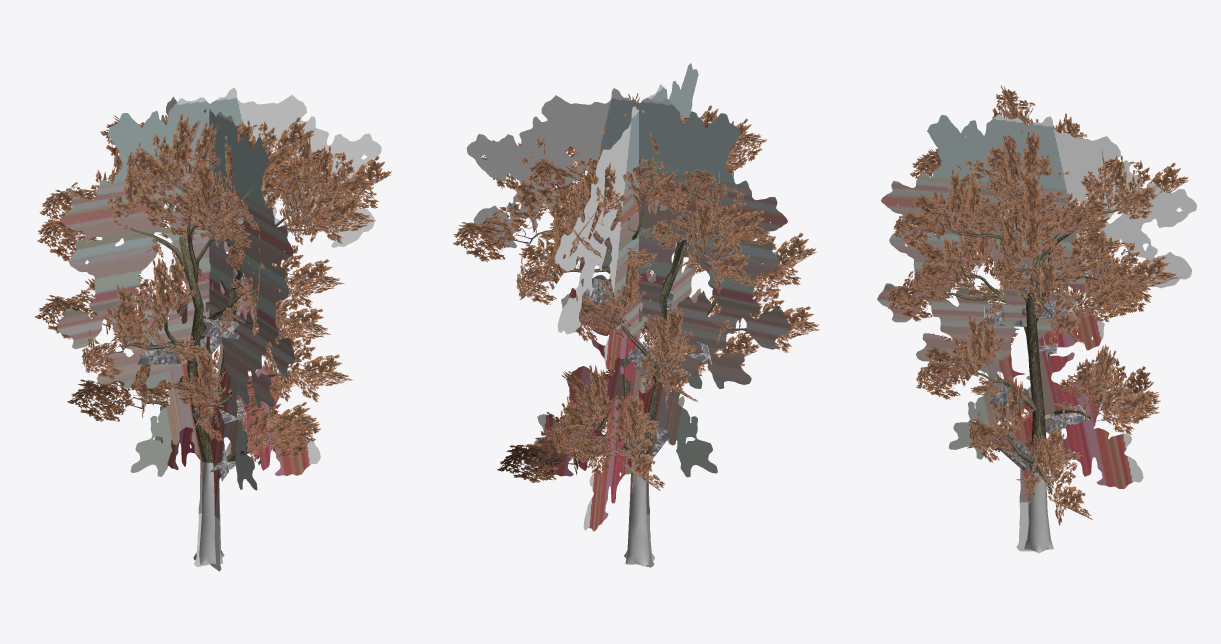
File: Tree-Oak1C.fbx
3 renders of one model, left to right at view 1: azimuth 30°, elevation 25°; view 2: azimuth 150°, elevation 25°; view 3: azimuth 270°, elevation 25°, orthographic. The views are drawn at different scales.
Visible parts, largest first — view 1: Tree-Oak1C_LOD0, Billboard-Oak1C; view 2: Billboard-Oak1C, Tree-Oak1C_LOD0; view 3: Tree-Oak1C_LOD0, Billboard-Oak1C.
Boxes of the visible parts, x1,y1,x2,y2 form: Tree-Oak1C_LOD0: [34, 113, 391, 565]; Billboard-Oak1C: [57, 87, 381, 571]; Billboard-Oak1C: [466, 63, 791, 567]; Tree-Oak1C_LOD0: [453, 93, 820, 566]; Tree-Oak1C_LOD0: [886, 85, 1189, 553]; Billboard-Oak1C: [877, 114, 1196, 551].
Size of what is drawn, in the model's own units: 1929 by 2549 by 1664.
